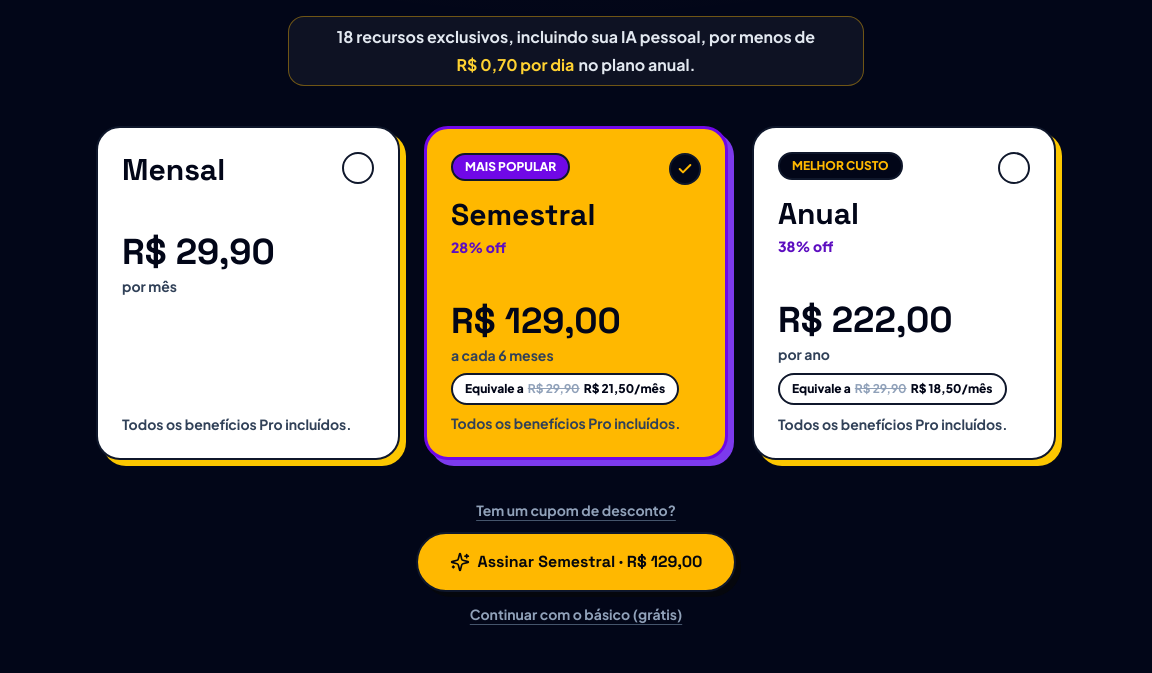
Test: campo de cupom do checkout: codigo de creator (lote 11b) › codigo de creator digitado vira afiliado aplicado, com banner e SEM clique
The width and height of the screenshot is (1152, 673).
(page scrolled)
Click the button "Tem um cupom de desconto?" at (576, 510), box [476, 500, 676, 520]
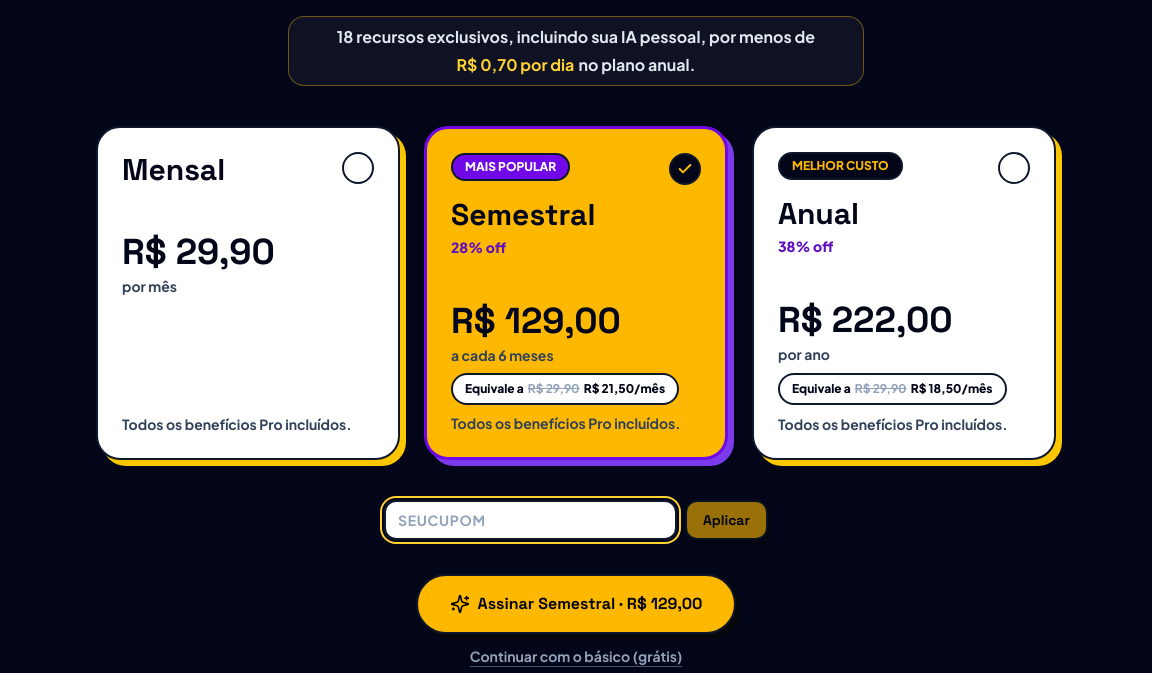
Type "ANACRIA" into the field named "Código do cupom" at (530, 520), box [384, 500, 677, 540]
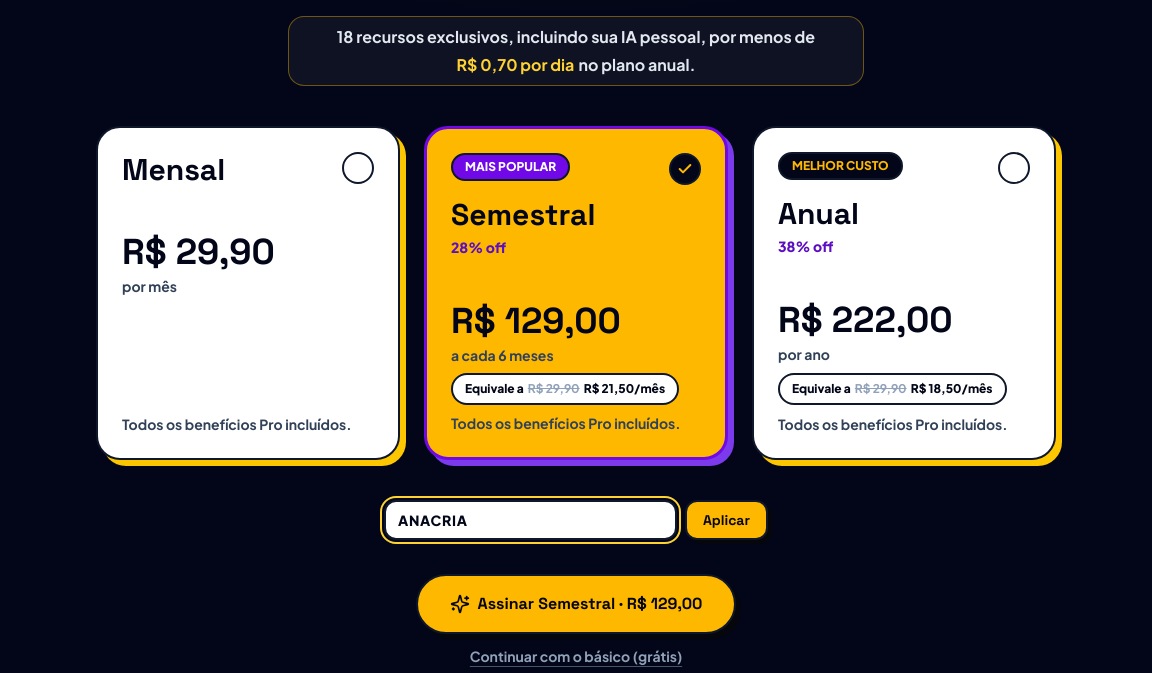
Click the button "Aplicar" at (726, 520), box [685, 500, 768, 540]
(page scrolled)
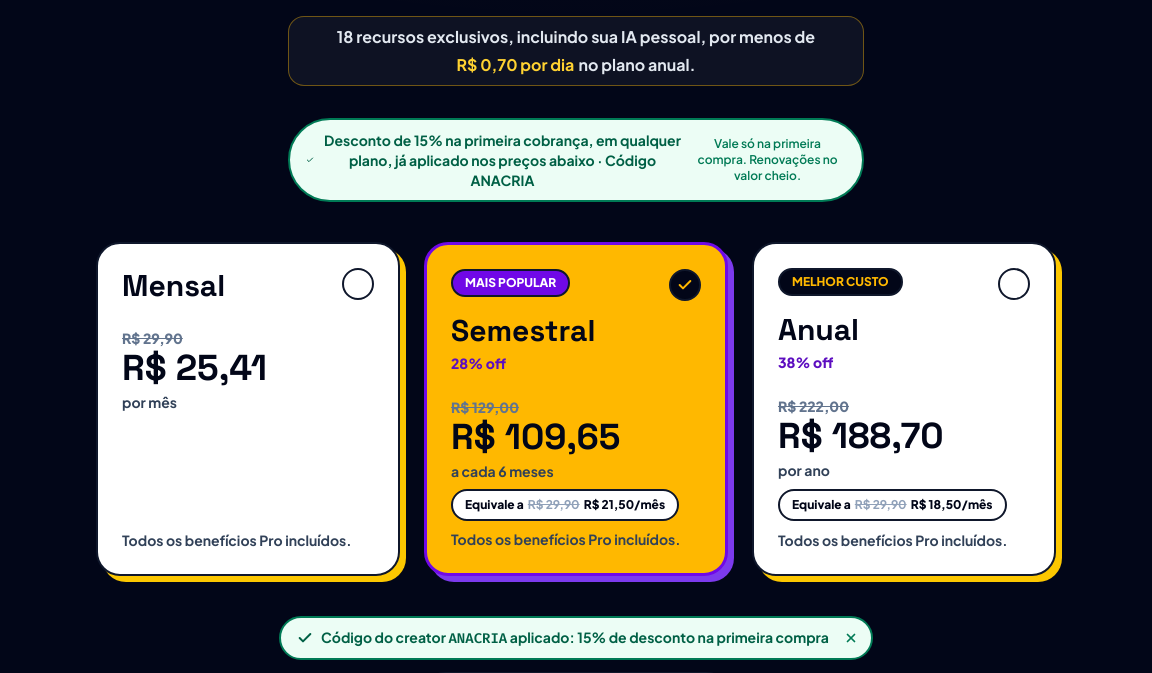
Check: the message with test id "checkout-afiliado-aplicado" shows "ANACRIA", box [448, 629, 507, 648]
Check: the message with test id "checkout-afiliado-aplicado" shows "15% de desconto na primeira compra", box [279, 616, 873, 660]
Check: the text "ANACRIA" is shown, box [448, 629, 507, 648]
Click the button named "Remover código ANACRIA" at (851, 638), box [837, 624, 865, 652]
(page scrolled)
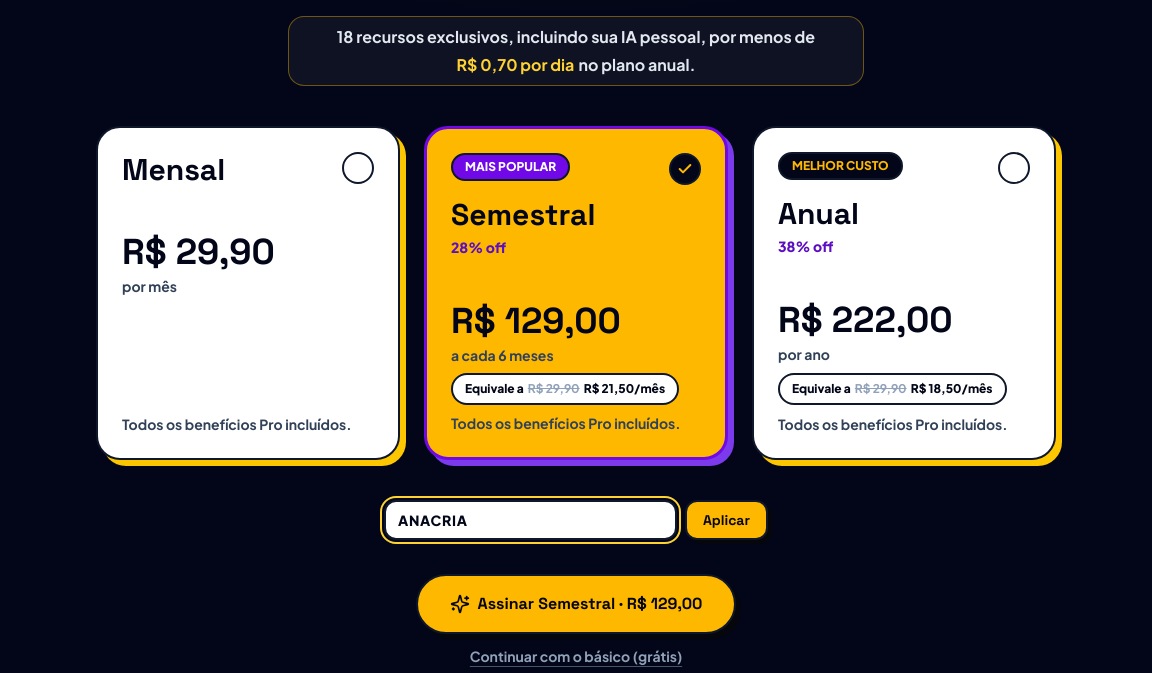
Check: the message with test id "checkout-afiliado-aplicado" is gone
Check: the field named "Código do cupom" is shown, box [384, 500, 677, 540]
